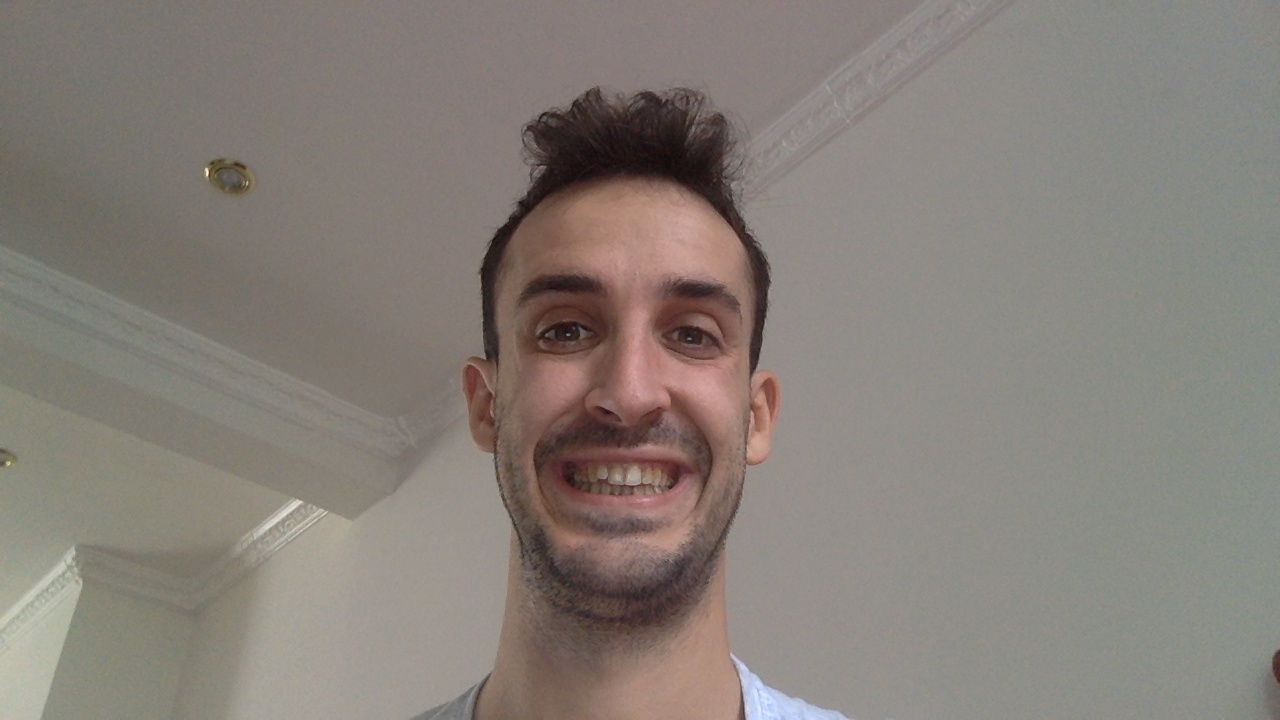smile: (554, 445, 699, 511)
